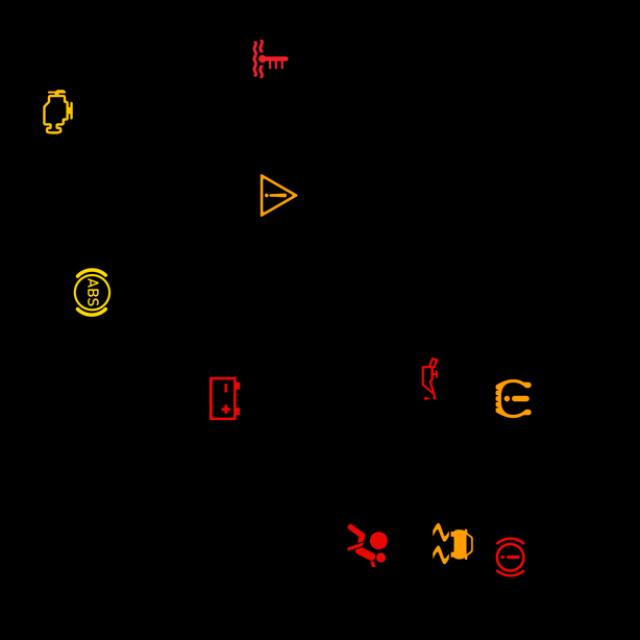Anti Lock Braking System: (65, 265, 118, 318)
Braking System Issue: (484, 530, 536, 582)
Charging System Issue: (198, 371, 251, 424)
Check Engine: (32, 84, 84, 138)
Electronic Stability Problem -ESP-: (426, 516, 479, 569)
Engine Overheating Warning Light: (244, 32, 297, 84)
Low Engine Oil Warning Light: (404, 352, 456, 404)
Low Tire Pressure Warning Light: (487, 371, 540, 424)
Master warning light: (252, 168, 306, 221)
SRS-Airbag: (341, 518, 394, 571)
